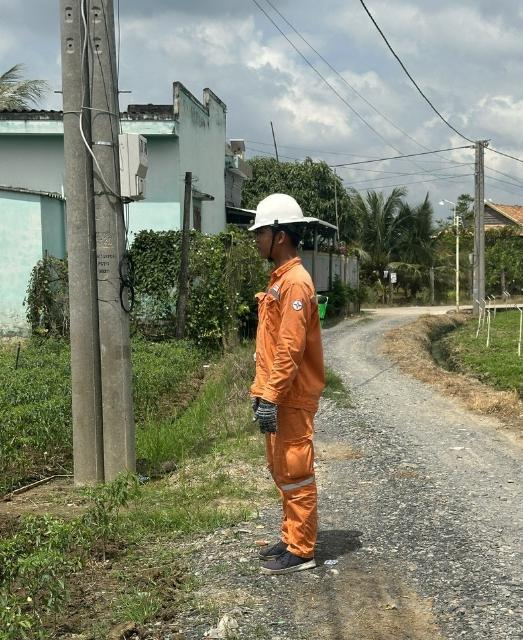gloves: (253, 400, 283, 440), (246, 391, 261, 421)
helmet: (236, 189, 326, 236)
shoes: (262, 549, 330, 585), (245, 533, 303, 555)
